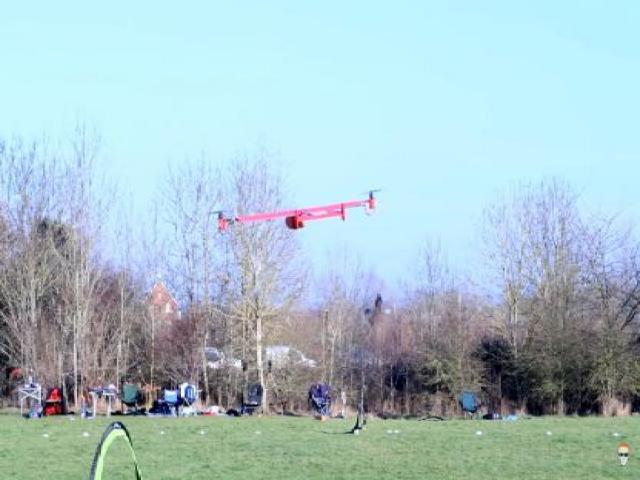uav: (204, 182, 384, 250)
